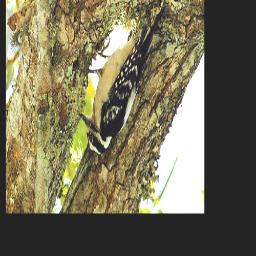Woodpecker: (79, 1, 167, 164)
